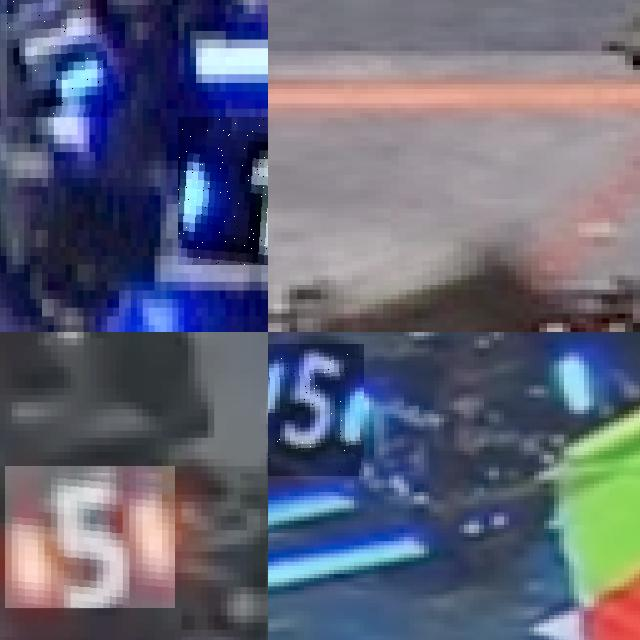B1: (178, 117, 268, 264), (6, 0, 107, 117)
B5: (268, 344, 364, 475)
R5: (5, 466, 175, 608)
